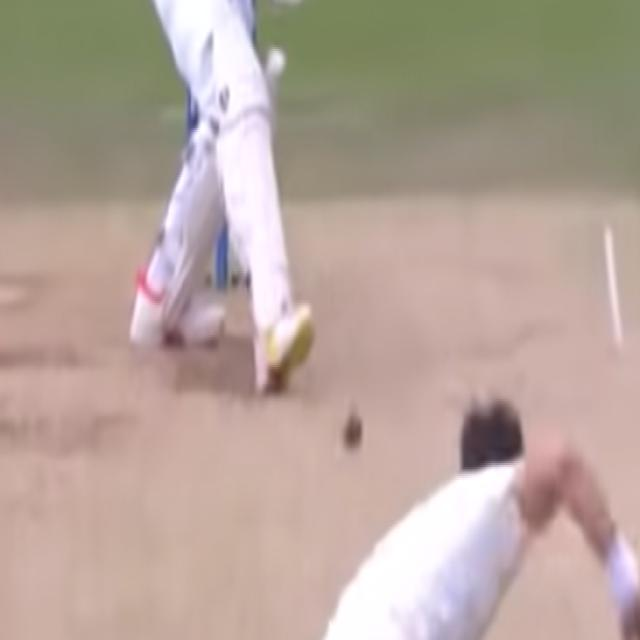ball: (337, 401, 364, 452)
